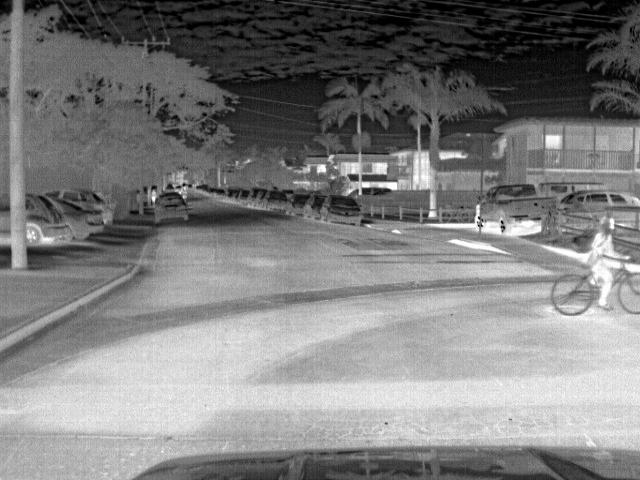car: (476, 182, 556, 231), (46, 187, 117, 225), (24, 194, 69, 246), (52, 198, 107, 234), (553, 190, 639, 212), (154, 191, 194, 227), (320, 196, 365, 225), (306, 193, 332, 219), (262, 190, 291, 212), (290, 193, 312, 218), (253, 190, 271, 209), (237, 188, 254, 204)
person: (586, 214, 622, 308)
